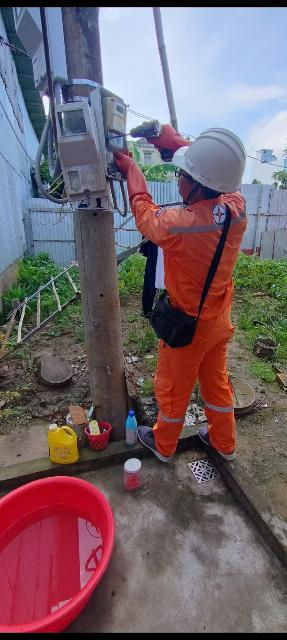gloves: (94, 144, 156, 200), (129, 111, 203, 156)
helmet: (173, 121, 260, 197)
shoes: (130, 416, 182, 465), (191, 419, 243, 464)
